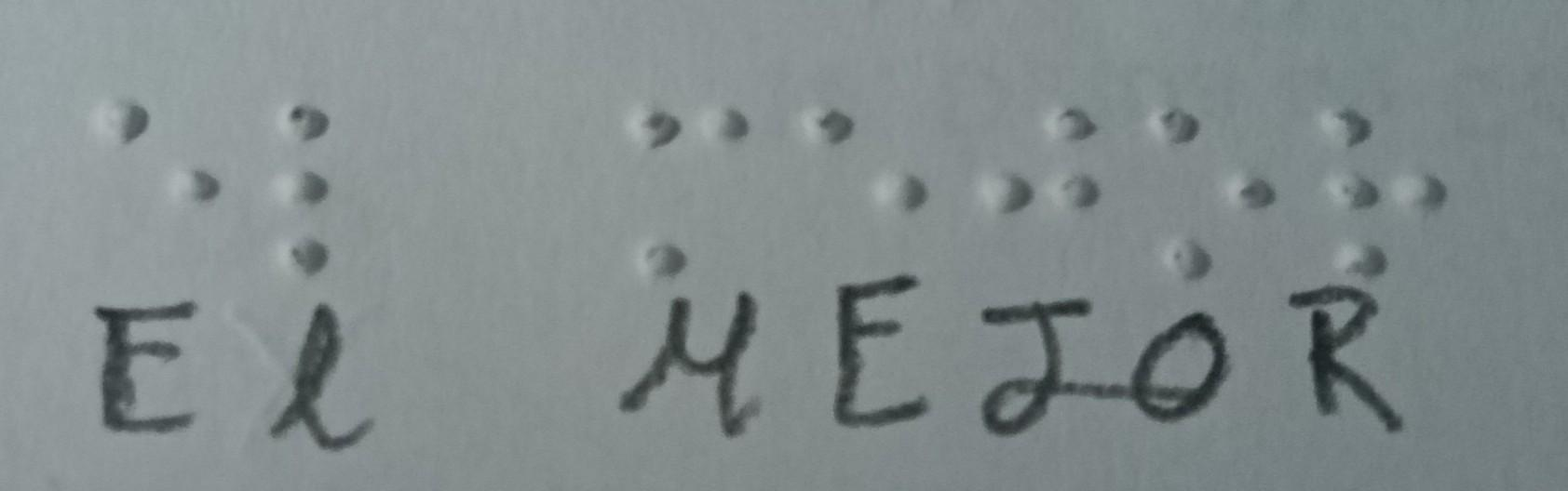e: (777, 91, 931, 238), (89, 76, 229, 223)
j: (961, 80, 1114, 240)
l: (250, 84, 372, 286)
m: (611, 93, 760, 281)
o: (1125, 82, 1272, 281)
r: (1289, 93, 1458, 286)
